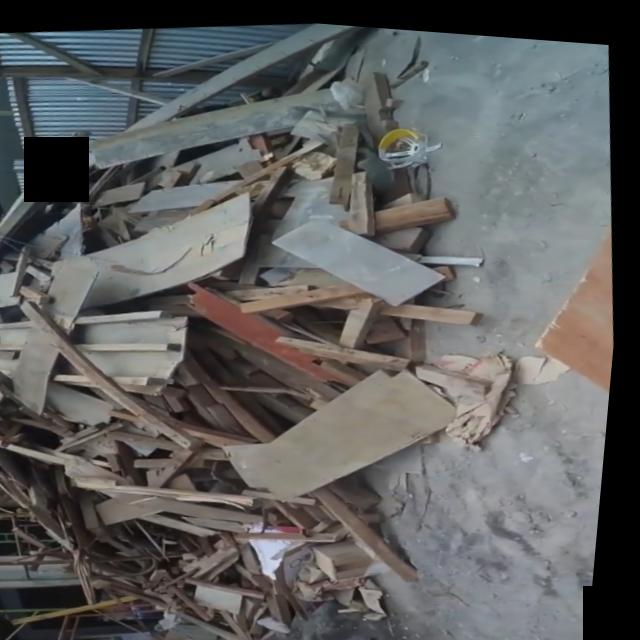Building: (0, 65, 473, 604)
